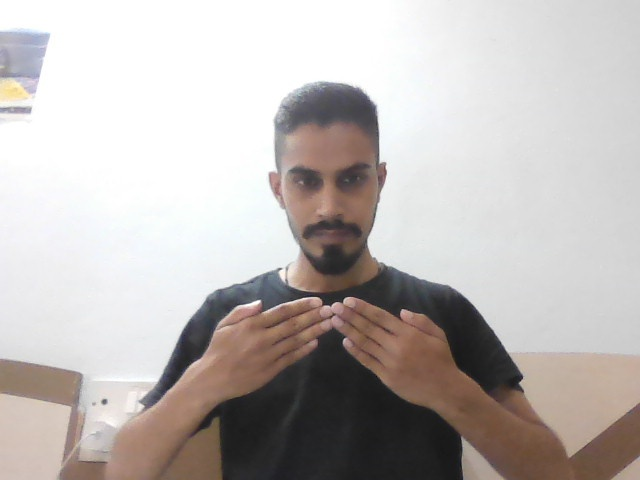ThankYou: (204, 297, 461, 401)
